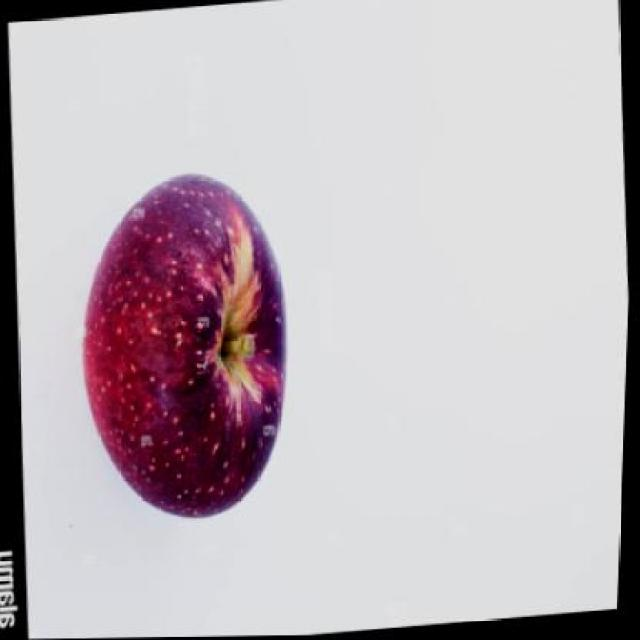Fresh Apple: (100, 175, 285, 523)
